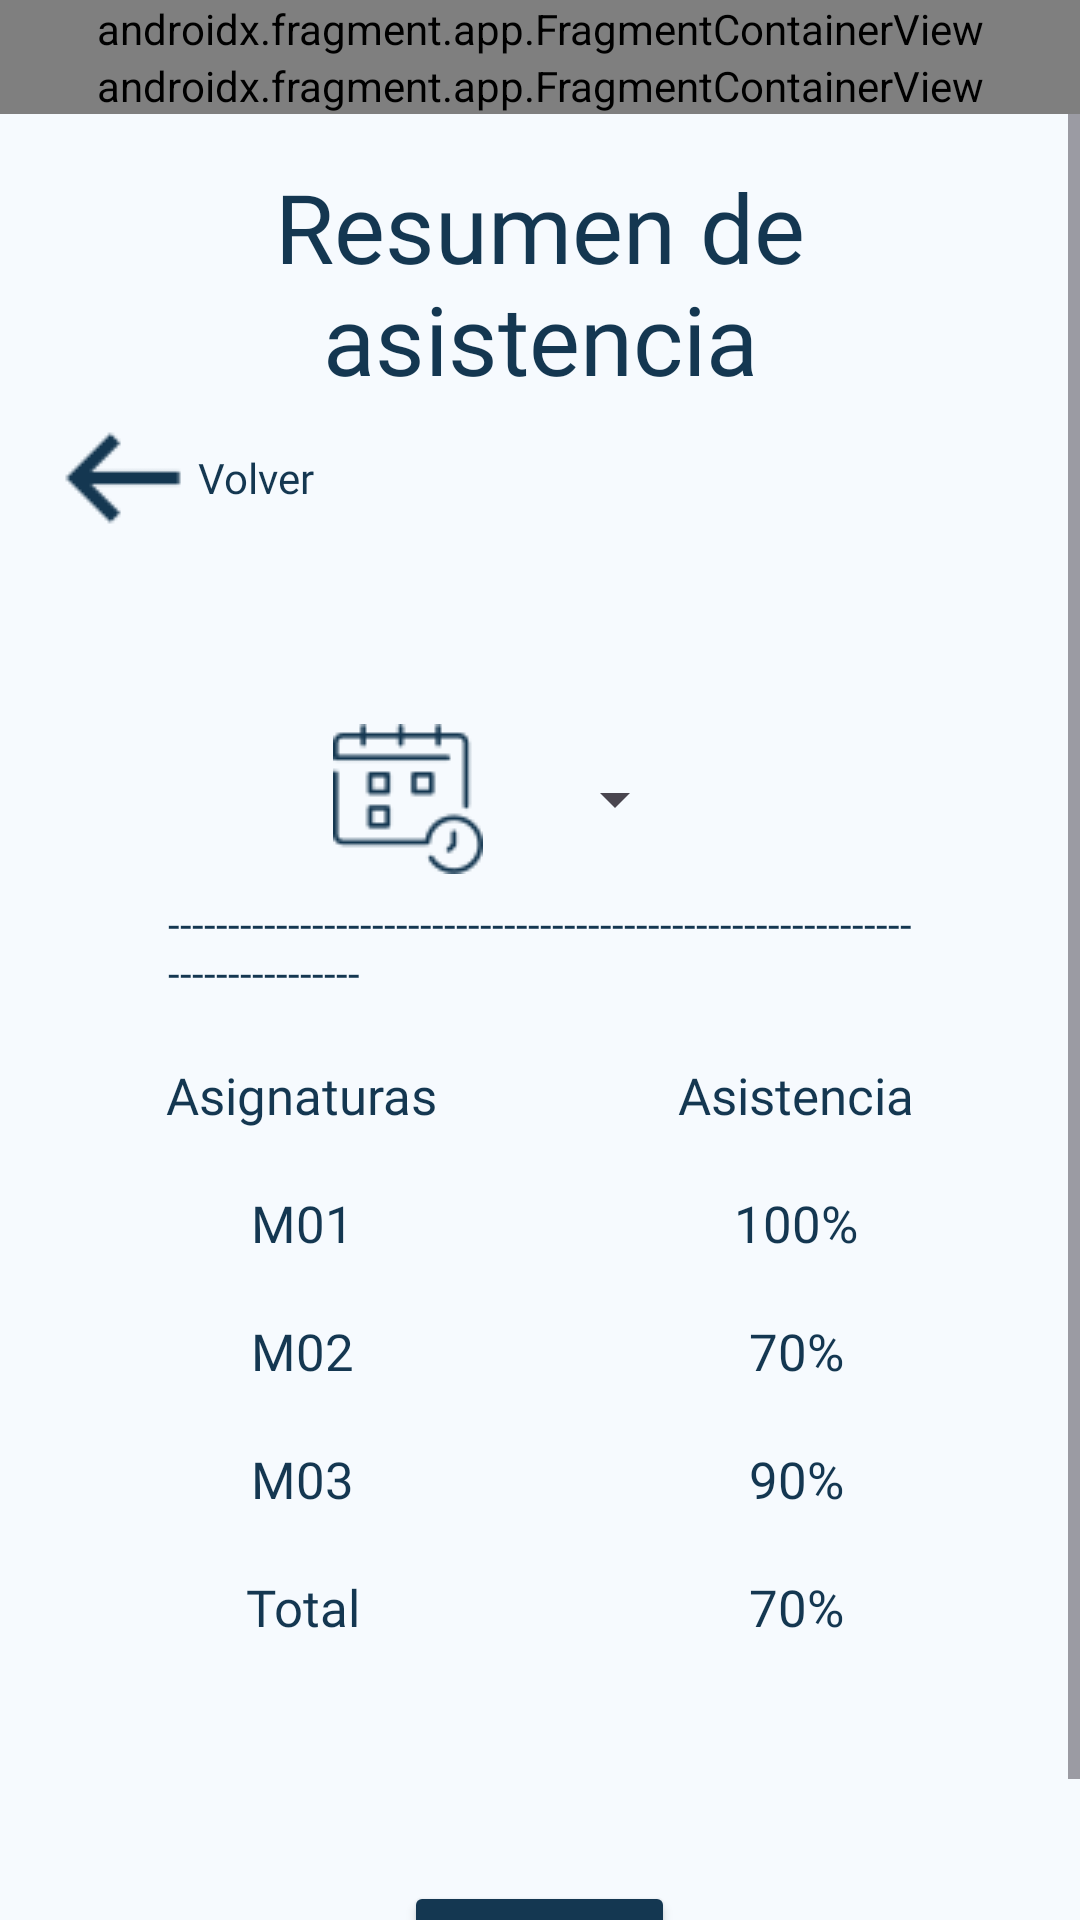

Named icons in this screenshot (1080 x 1920) and their centers, point (x, y):
iconarrowleft: point (123, 478)
iconcalendary: point (408, 799)
